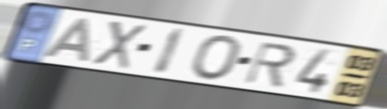4: (294, 47, 331, 95)
A: (41, 16, 92, 64)
I: (151, 26, 188, 78)
O: (188, 33, 243, 82)
R: (242, 41, 298, 90)
X: (90, 18, 148, 71)
